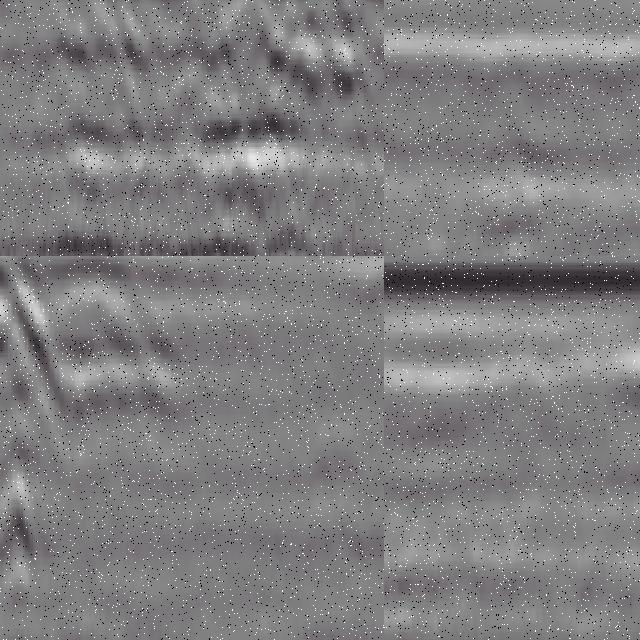crack: (1, 257, 34, 640)
loose: (34, 1, 385, 165), (39, 257, 178, 459), (385, 525, 492, 640)
